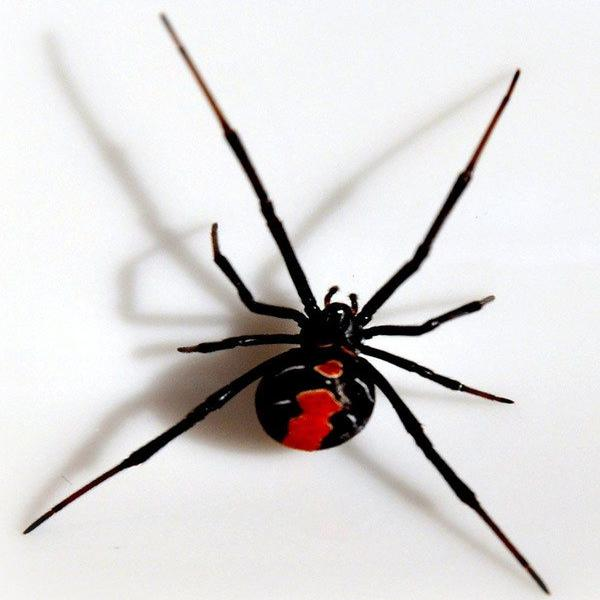Redback Spider: (30, 13, 553, 590)
